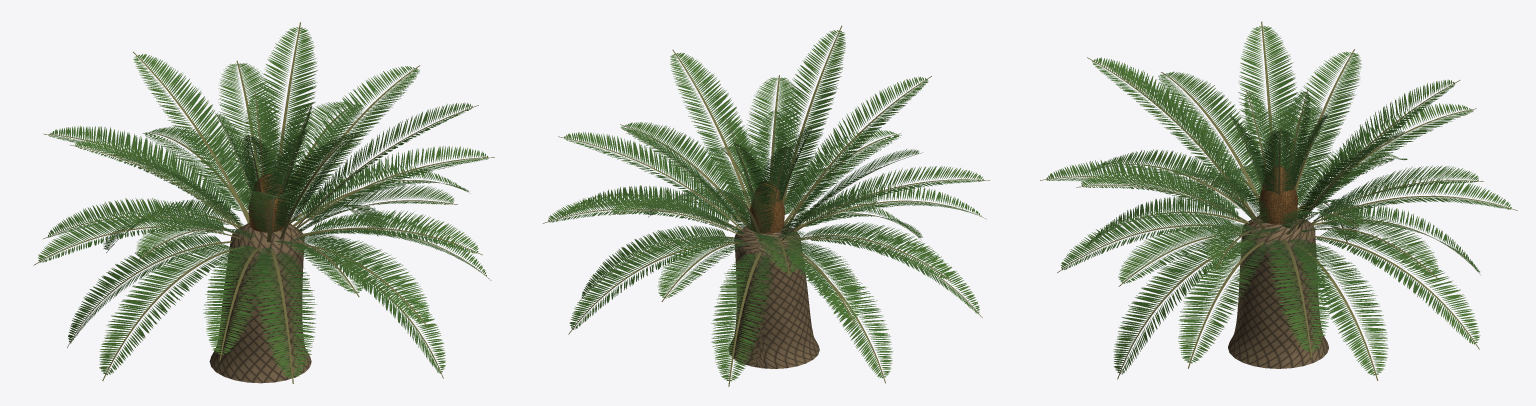
Rendered from cycad.glb.
3 views of the same model, side by side, from view 1: azimuth 30°, elevation 25°; view 2: azimuth 150°, elevation 25°; view 3: azimuth 270°, elevation 25° (orthographic). The views are drawn at different scales.
Visible parts, largest first — view 1: Cycad; view 2: Cycad; view 3: Cycad.
Part boxes in pixels (x1,y1,x2,y2): Cycad: (33,22,494,383); Cycad: (543,25,989,386); Cycad: (1040,21,1517,380).
Bounding box in the file's own units: 3.71 × 2.33 × 3.47.
Materials: 3 (3 with a texture image).
